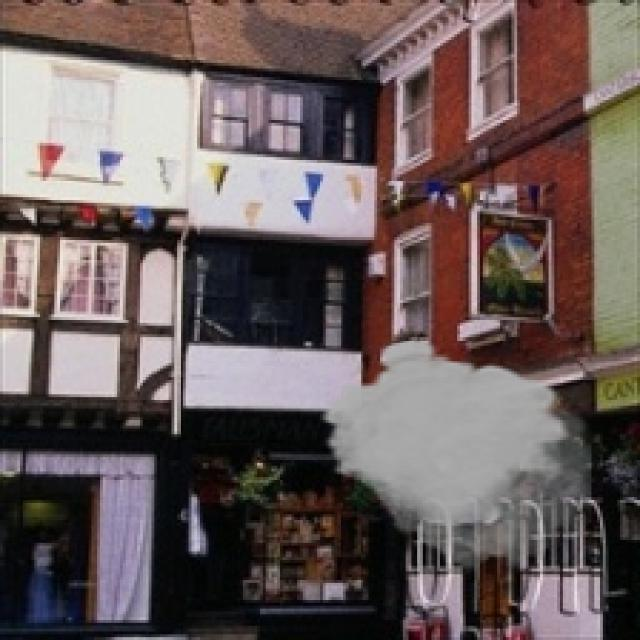smoke: (317, 337, 592, 577)
